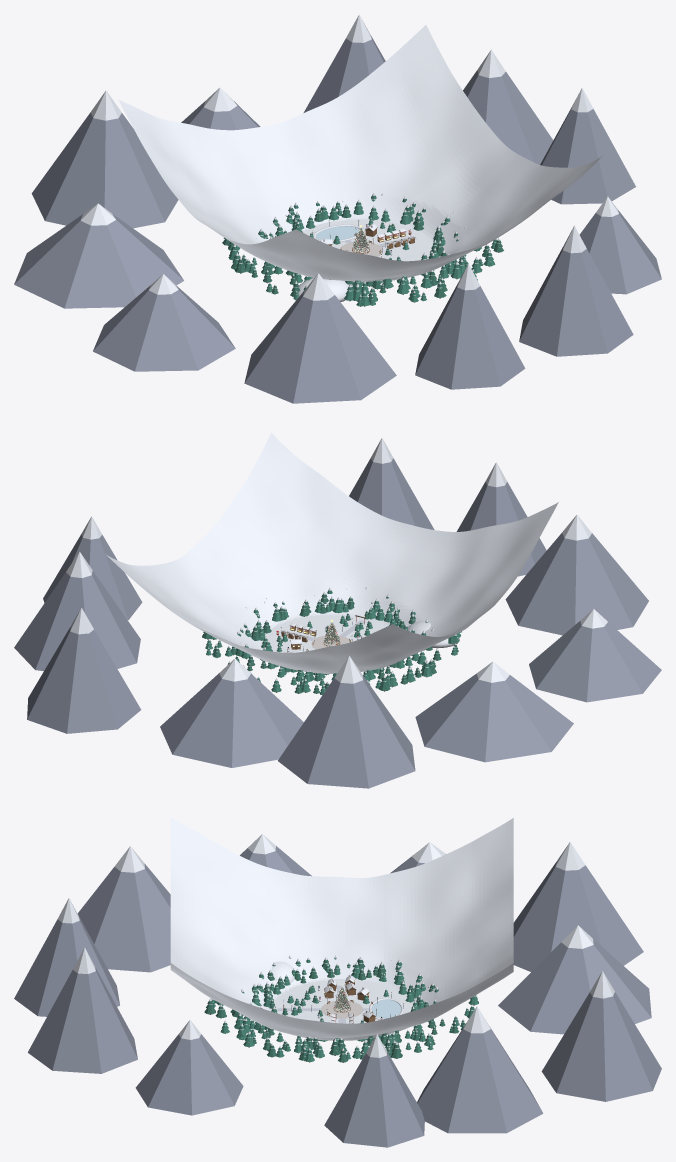
File: xmas_map.glb
3 renders of one model, top to bottom at view 1: azimuth 30°, elevation 25°; view 2: azimuth 150°, elevation 25°; view 3: azimuth 270°, elevation 25°, orthographic. The views are drawn at different scales.
Parts seen in each view (by area): view 1: ENV_mountains, ENV_snow_ground, ENV_mountain_snow, XMAS_pines_a, XMAS_pines_b, XMAS_pines_snow; view 2: ENV_mountains, ENV_snow_ground, ENV_mountain_snow, XMAS_pines_a, XMAS_pines_b, XMAS_pines_snow; view 3: ENV_mountains, ENV_snow_ground, ENV_mountain_snow, XMAS_pines_a, XMAS_pines_b, XMAS_pines_snow, ENV_plaza_stone.
Boxes of the visible parts, x1,y1,x2,y2 form: ENV_mountains: (14,35,661,403); ENV_snow_ground: (118,25,602,282); ENV_mountain_snow: (80,14,618,300); XMAS_pines_a: (228,195,496,306); XMAS_pines_b: (222,199,503,300); XMAS_pines_snow: (232,193,499,299); ENV_mountains: (14,458,661,788); ENV_snow_ground: (106,432,558,673); ENV_mountain_snow: (66,438,607,683); XMAS_pines_a: (205,590,461,695); XMAS_pines_b: (202,594,458,693); XMAS_pines_snow: (208,587,457,688); ENV_mountains: (14,846,661,1147); ENV_snow_ground: (170,817,513,1040); ENV_mountain_snow: (57,834,614,1057); XMAS_pines_a: (211,958,478,1061); XMAS_pines_b: (204,959,459,1062); XMAS_pines_snow: (208,955,475,1056); ENV_plaza_stone: (321,1001,363,1018).
Bounding box in the file's own units: 324 × 67.54 × 321.
Materials: 43 (1 with a texture image).
